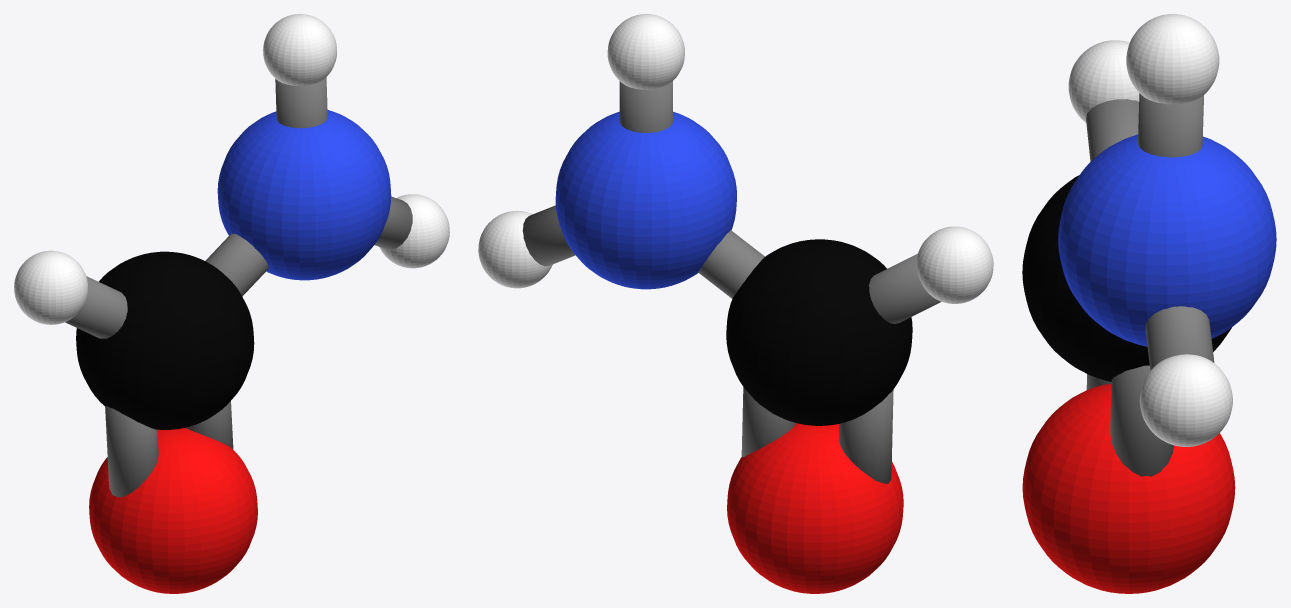
Rendered from FORMAMIDA.obj.
The picture shows the model from 3 angles, left to right: view 1: azimuth 30°, elevation 25°; view 2: azimuth 150°, elevation 25°; view 3: azimuth 270°, elevation 25°; orthographic projection. The views are drawn at different scales.
Visible parts, largest first — view 1: Carbon_ball_Sphere.003, Nitrogen_ball_Sphere.001, Oxygen_ball_Sphere, Hydrogen_ball_Sphere.002, Stick_Cylinder_Cylinder, Stick_Cylinder.004_Cylinder.004, Stick_Cylinder.002_Cylinder.002, Stick_Cylinder.003_Cylinder.003, Stick_Cylinder.001_Cylinder.001, Stick_Cylinder.005_Cylinder.005; view 2: Carbon_ball_Sphere.003, Nitrogen_ball_Sphere.001, Oxygen_ball_Sphere, Hydrogen_ball_Sphere.002, Stick_Cylinder_Cylinder, Stick_Cylinder.004_Cylinder.004, Stick_Cylinder.003_Cylinder.003, Stick_Cylinder.002_Cylinder.002, Stick_Cylinder.001_Cylinder.001, Stick_Cylinder.005_Cylinder.005; view 3: Nitrogen_ball_Sphere.001, Oxygen_ball_Sphere, Hydrogen_ball_Sphere.002, Carbon_ball_Sphere.003, Stick_Cylinder.005_Cylinder.005, Stick_Cylinder.002_Cylinder.002, Stick_Cylinder.001_Cylinder.001, Stick_Cylinder.004_Cylinder.004.
Part boxes in pixels (x1,y1,x2,y2): Carbon_ball_Sphere.003: (76, 251, 254, 429); Nitrogen_ball_Sphere.001: (217, 110, 391, 280); Oxygen_ball_Sphere: (89, 428, 257, 593); Hydrogen_ball_Sphere.002: (14, 14, 449, 324); Stick_Cylinder_Cylinder: (105, 406, 158, 497); Stick_Cylinder.004_Cylinder.004: (65, 276, 127, 338); Stick_Cylinder.002_Cylinder.002: (275, 77, 327, 128); Stick_Cylinder.003_Cylinder.003: (205, 233, 268, 296); Stick_Cylinder.001_Cylinder.001: (374, 196, 412, 249); Stick_Cylinder.005_Cylinder.005: (185, 401, 233, 449); Carbon_ball_Sphere.003: (726, 239, 912, 425); Nitrogen_ball_Sphere.001: (555, 111, 736, 289); Oxygen_ball_Sphere: (727, 423, 903, 593); Hydrogen_ball_Sphere.002: (478, 14, 993, 303); Stick_Cylinder_Cylinder: (838, 389, 893, 483); Stick_Cylinder.004_Cylinder.004: (869, 254, 941, 323); Stick_Cylinder.003_Cylinder.003: (698, 230, 764, 298); Stick_Cylinder.002_Cylinder.002: (619, 81, 672, 132); Stick_Cylinder.001_Cylinder.001: (522, 205, 575, 266); Stick_Cylinder.005_Cylinder.005: (741, 387, 795, 457); Nitrogen_ball_Sphere.001: (1058, 134, 1276, 346); Oxygen_ball_Sphere: (1022, 384, 1235, 593); Hydrogen_ball_Sphere.002: (1068, 14, 1232, 446); Carbon_ball_Sphere.003: (1022, 175, 1231, 381); Stick_Cylinder.005_Cylinder.005: (1110, 365, 1173, 476); Stick_Cylinder.002_Cylinder.002: (1138, 93, 1203, 157); Stick_Cylinder.001_Cylinder.001: (1145, 306, 1214, 370); Stick_Cylinder.004_Cylinder.004: (1086, 99, 1138, 161).
Bounding box in the file's own units: 4.07 × 4.46 × 1.57.
